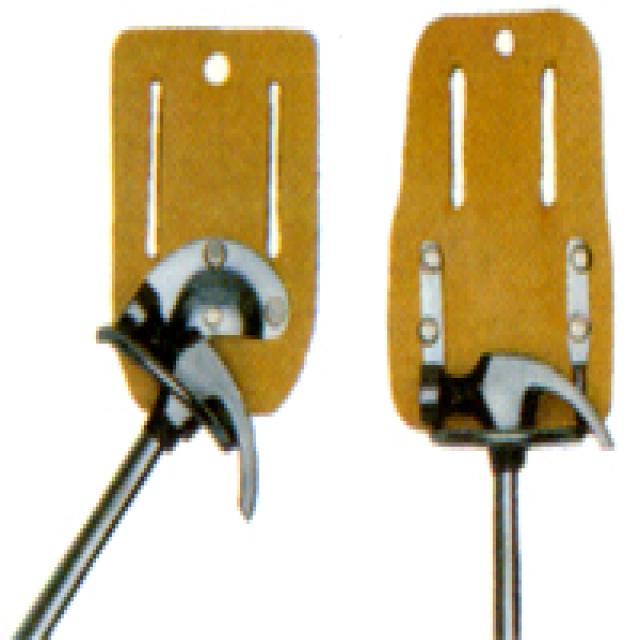hammer: (419, 345, 613, 640)
